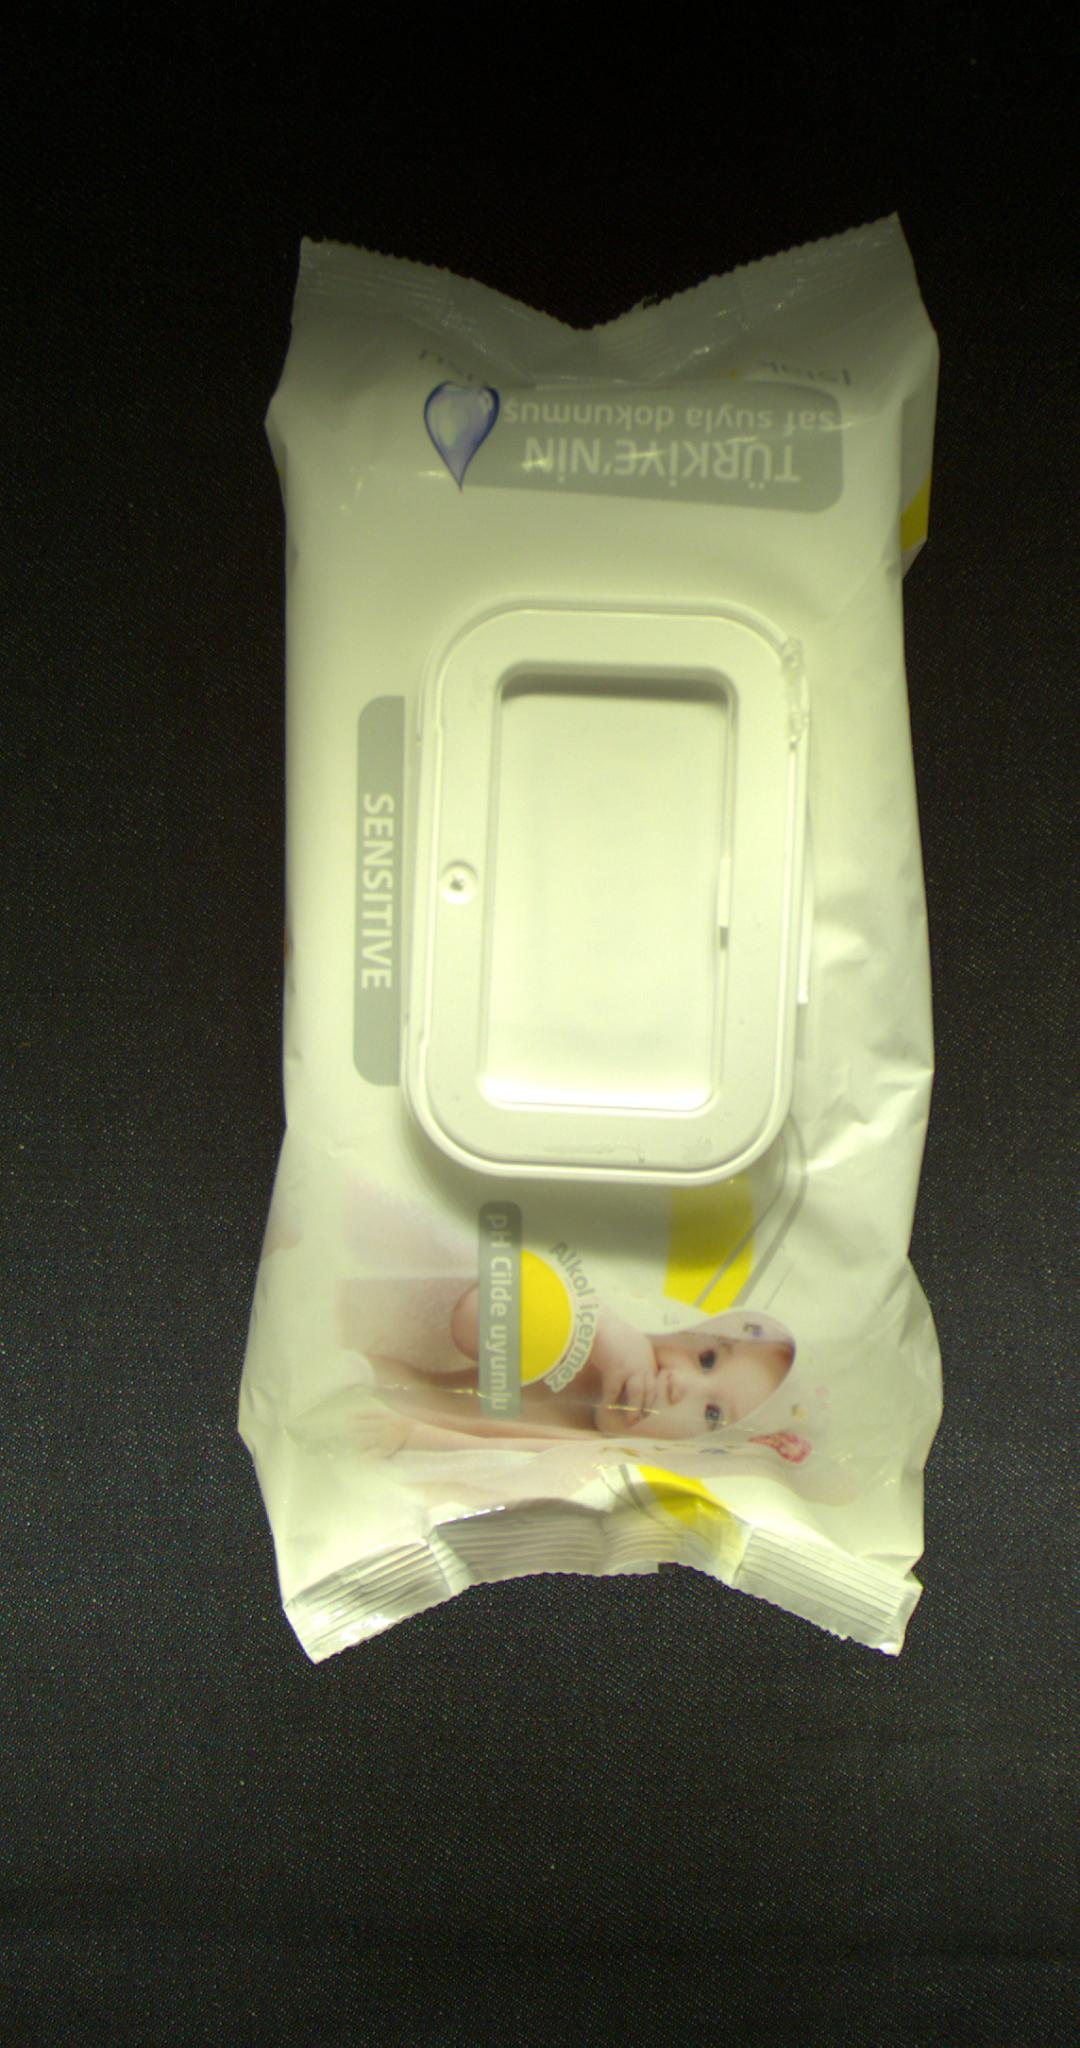hatali-kapak: (417, 600, 818, 1178)
